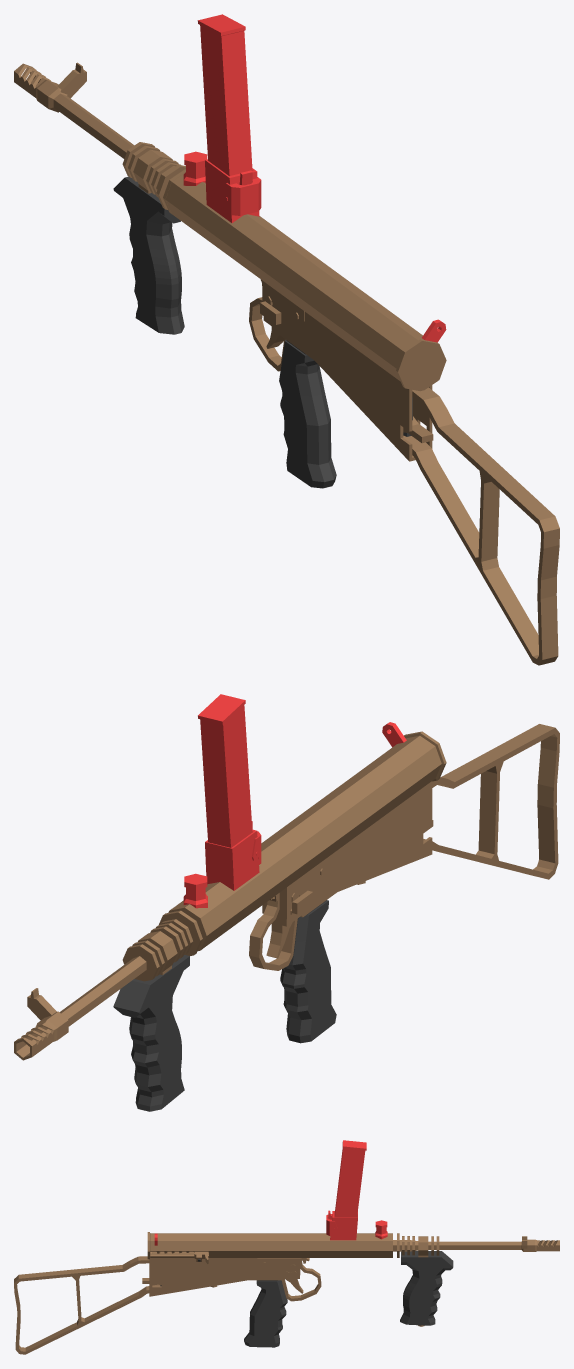
File: subfusil_6.glb
3 renders of one model, top to bottom at view 1: azimuth 30°, elevation 25°; view 2: azimuth 150°, elevation 25°; view 3: azimuth 270°, elevation 25°, orthographic. The views are drawn at different scales.
Parts seen in each view (by area): view 1: p14_accent, p55_accent, p26_accent, p16_del, p3_paint, p30_paint, p0_accent, p18_del, p19_del, p22_accent; view 2: p14_accent, p55_accent, p3_paint, p26_accent, p16_del, p30_paint, p0_accent, p18_del, p22_accent, p25_accent, p15_del, p4_accent (+3 smaller); view 3: p14_accent, p26_accent, p3_paint, p55_accent, p30_paint, p16_del, p0_accent, p18_del, p25_accent, p22_accent.
Boxes of the visible parts, x1,y1,x2,y2 form: p14_accent: (165, 173, 446, 391); p55_accent: (403, 387, 559, 665); p26_accent: (263, 303, 432, 461); p16_del: (197, 14, 252, 175); p3_paint: (113, 176, 184, 334); p30_paint: (279, 340, 336, 488); p0_accent: (14, 63, 134, 158); p18_del: (205, 159, 259, 222); p19_del: (223, 177, 261, 215); p22_accent: (249, 279, 285, 371); p14_accent: (172, 731, 446, 948); p55_accent: (423, 724, 559, 879); p3_paint: (113, 955, 189, 1111); p26_accent: (272, 781, 432, 926); p16_del: (198, 694, 252, 847); p30_paint: (280, 900, 336, 1043); p0_accent: (14, 956, 146, 1060); p18_del: (205, 829, 259, 890); p22_accent: (249, 893, 297, 970); p25_accent: (262, 857, 328, 919); p15_del: (183, 873, 207, 908); p4_accent: (122, 944, 159, 981); p14_accent: (147, 1232, 390, 1259); p26_accent: (149, 1252, 299, 1296); p3_paint: (400, 1251, 453, 1325); p55_accent: (14, 1256, 160, 1354); p30_paint: (244, 1280, 287, 1347); p16_del: (334, 1140, 366, 1217); p0_accent: (393, 1239, 559, 1251); p18_del: (330, 1211, 357, 1240); p25_accent: (257, 1258, 300, 1275); p22_accent: (281, 1258, 321, 1301).
Size of the model in its own units: 0.0554 by 0.3441 by 0.813.
